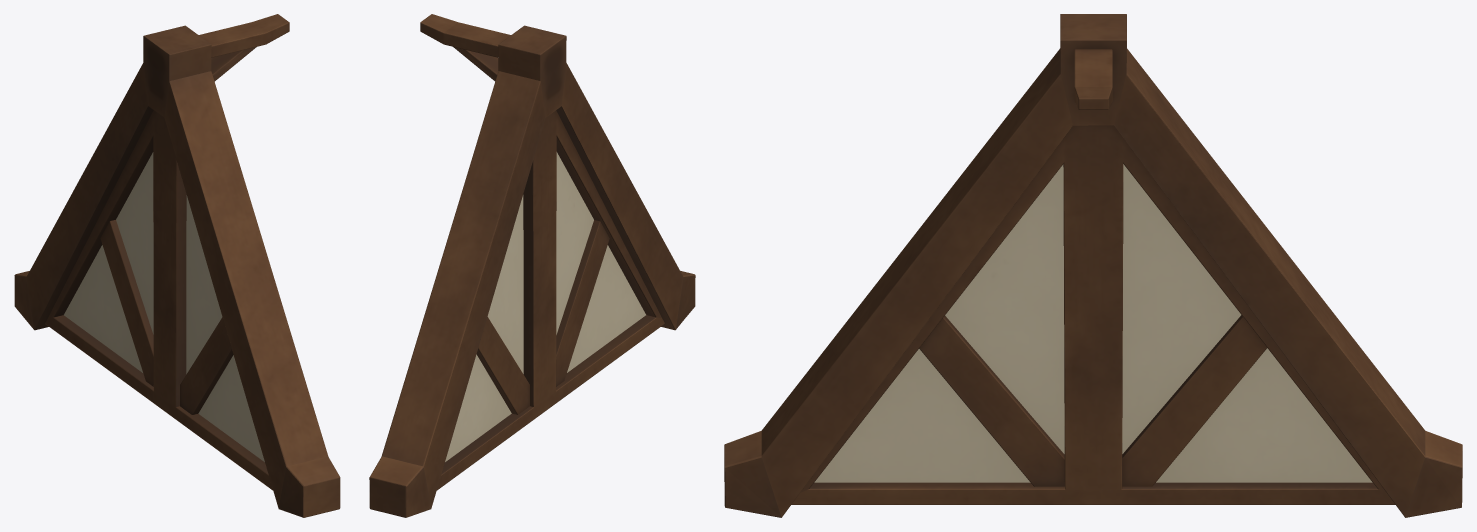
The model's file is BW_Cottage01_GableEndNarrow.fbx.
3 views of the same model, side by side, from view 1: azimuth 30°, elevation 25°; view 2: azimuth 150°, elevation 25°; view 3: azimuth 270°, elevation 25° (orthographic). The views are drawn at different scales.
Visible parts, largest first — view 1: BW_Cottage01_GableEndNarrow; view 2: BW_Cottage01_GableEndNarrow; view 3: BW_Cottage01_GableEndNarrow.
Part boxes in pixels (bbox=[...]): BW_Cottage01_GableEndNarrow: bbox=[14, 14, 340, 517]; BW_Cottage01_GableEndNarrow: bbox=[369, 14, 695, 517]; BW_Cottage01_GableEndNarrow: bbox=[724, 14, 1462, 517].
Bounding box in the file's own units: 0.8977 × 2.52 × 3.52.
